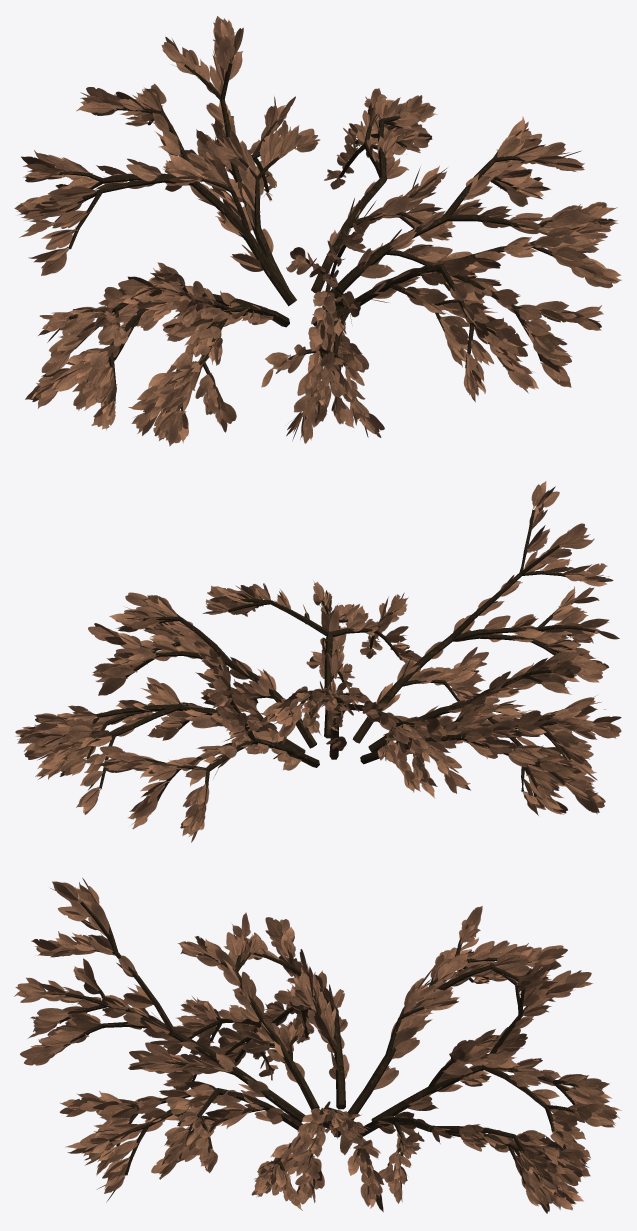
File: salal_understory_v02.glb
3 views of the same model, one above another, from view 1: azimuth 30°, elevation 25°; view 2: azimuth 150°, elevation 25°; view 3: azimuth 270°, elevation 25° (orthographic). The views are drawn at different scales.
Parts seen in each view (by area): view 1: salal_understory_v02; view 2: salal_understory_v02; view 3: salal_understory_v02.
Boxes of the visible parts, bbox=[...] form: salal_understory_v02: bbox=[14, 16, 621, 446]; salal_understory_v02: bbox=[15, 481, 621, 842]; salal_understory_v02: bbox=[14, 877, 621, 1213].
Size of the model in its own units: 2.21 by 1.04 by 2.24.
2 materials, 2 textured.
